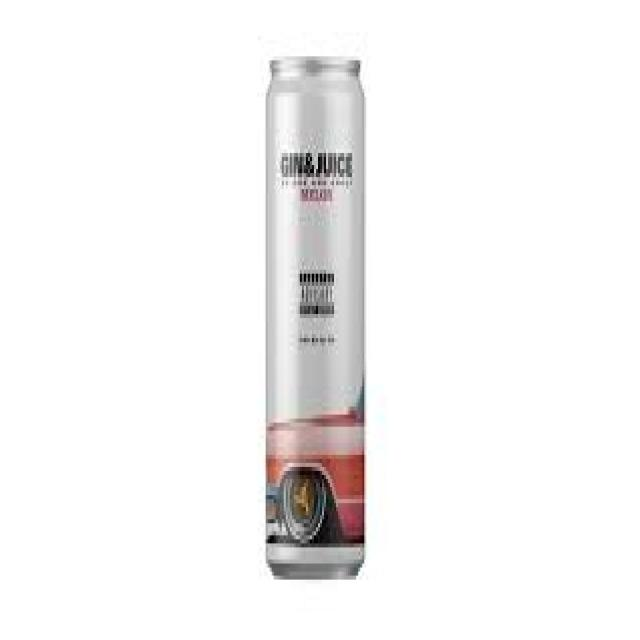Cans: (258, 40, 374, 596)
